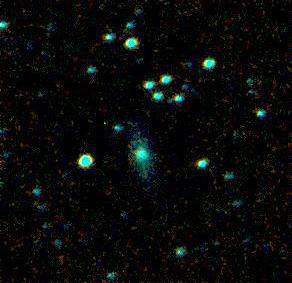star: (116, 216, 146, 246)
